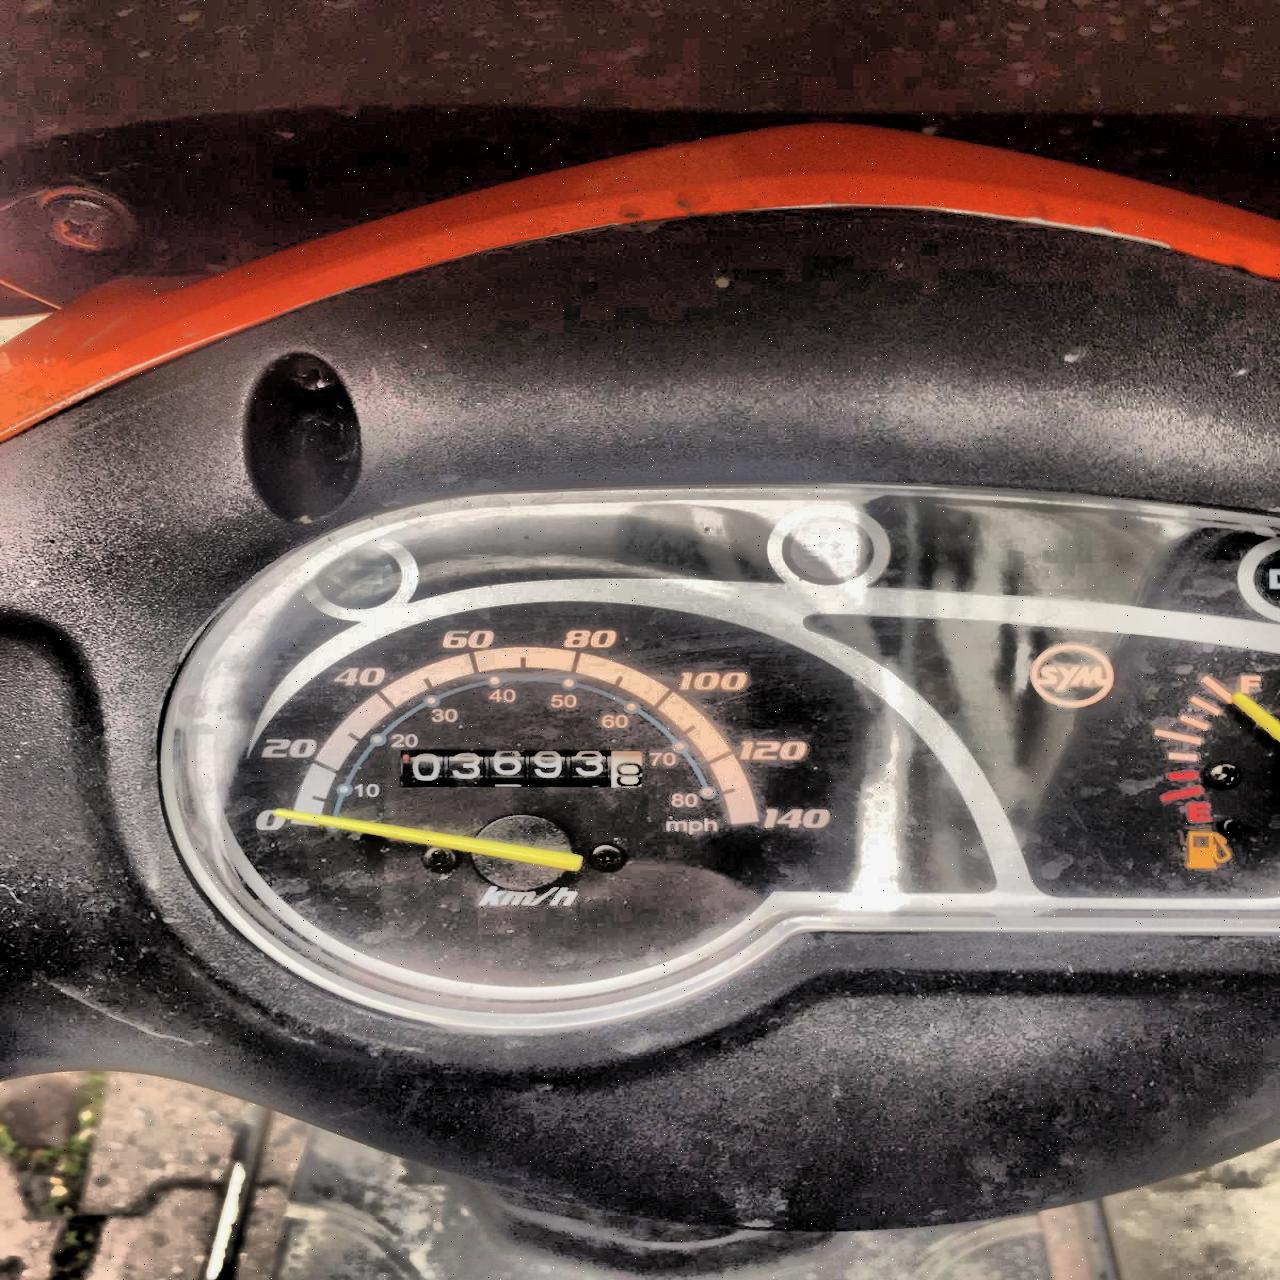0: (410, 751, 440, 781)
3: (450, 750, 481, 779), (574, 750, 602, 776)
6: (492, 749, 522, 775)
8: (614, 761, 642, 787)
9: (532, 749, 561, 777)
odometer: (392, 745, 646, 789)
